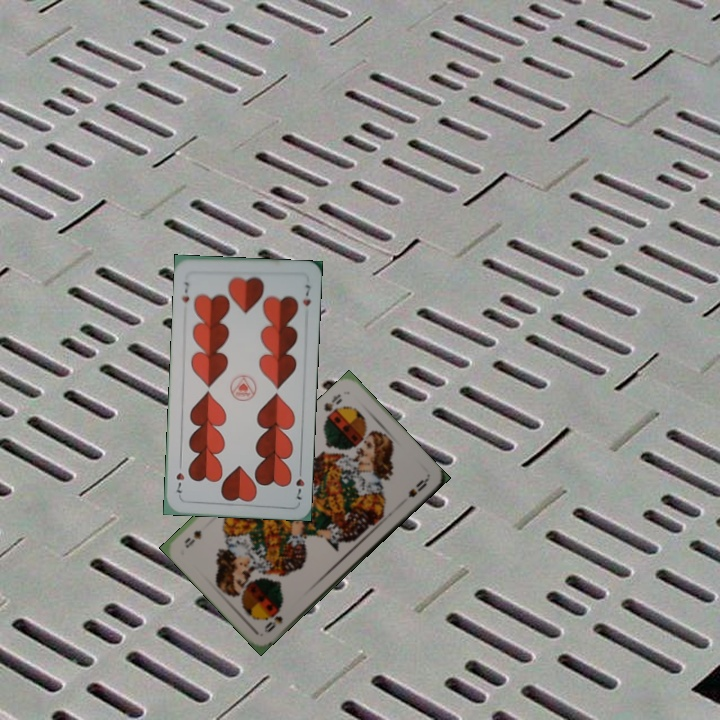H7: (292, 464, 307, 503), (178, 278, 192, 305)
SO: (320, 390, 345, 421), (260, 606, 285, 635)
